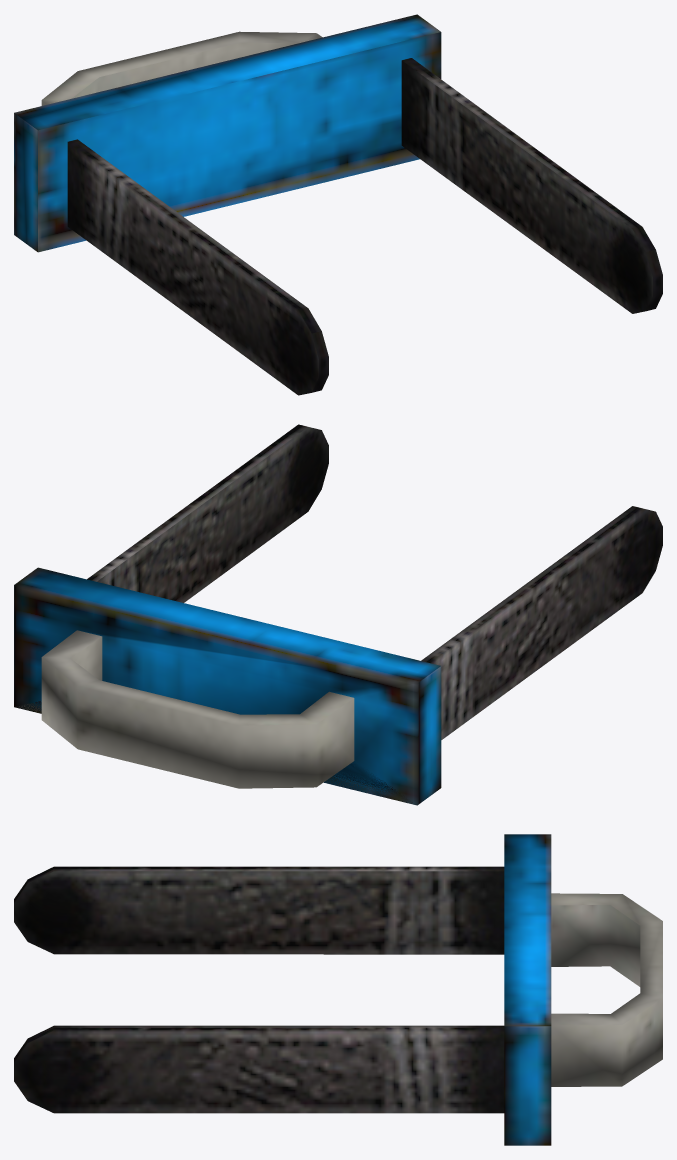
Rendered from LeverHandle.obj.
3 views of the same model, one above another, from view 1: azimuth 30°, elevation 25°; view 2: azimuth 150°, elevation 25°; view 3: azimuth 270°, elevation 25° (orthographic). The views are drawn at different scales.
Visible parts, largest first — view 1: 0kf2fcjze6sp; view 2: 0kf2fcjze6sp; view 3: 0kf2fcjze6sp.
Part boxes in pixels (x1,y1,x2,y2): 0kf2fcjze6sp: (14,14,662,395); 0kf2fcjze6sp: (14,424,662,805); 0kf2fcjze6sp: (14,834,662,1145).
Bounding box in the file's own units: 0.0957 × 0.0277 × 0.1366.
